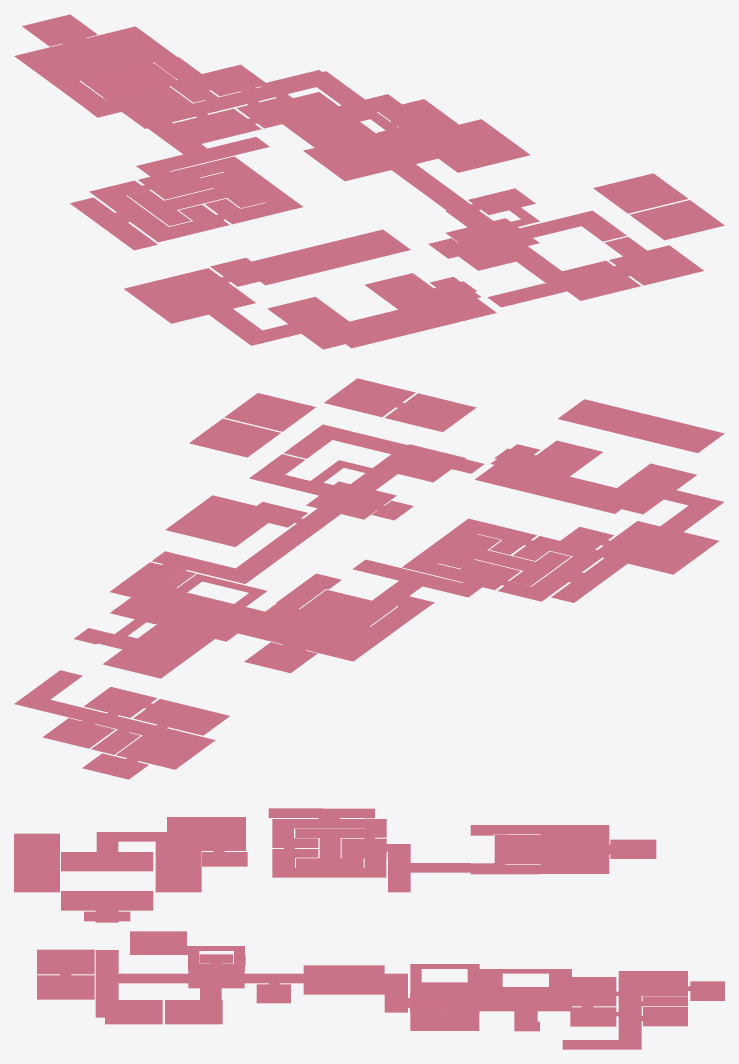
Rendered from unity_map_6_NAV.fbx.
The picture shows the model from 3 angles, top to bottom: view 1: azimuth 30°, elevation 25°; view 2: azimuth 150°, elevation 25°; view 3: azimuth 270°, elevation 25°; orthographic projection. The views are drawn at different scales.
Visible parts, largest first — view 1: Nav_mesh; view 2: Nav_mesh; view 3: Nav_mesh.
Boxes of the visible parts, x1,y1,x2,y2 form: Nav_mesh: (14,14,724,349); Nav_mesh: (14,378,724,779); Nav_mesh: (14,808,724,1049).
Bounding box in the file's own units: 63628 × 13021 × 92142.
